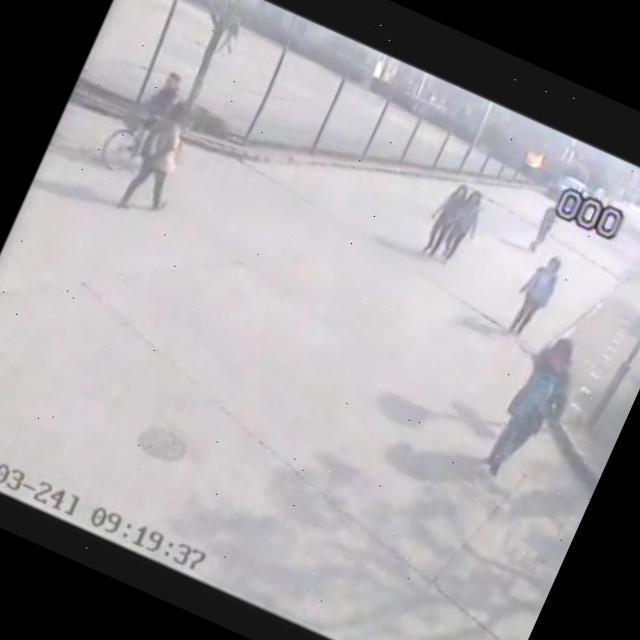person: (478, 322, 598, 494), (114, 90, 211, 224), (494, 241, 573, 349), (430, 183, 496, 274), (412, 173, 471, 264), (518, 198, 566, 262)
